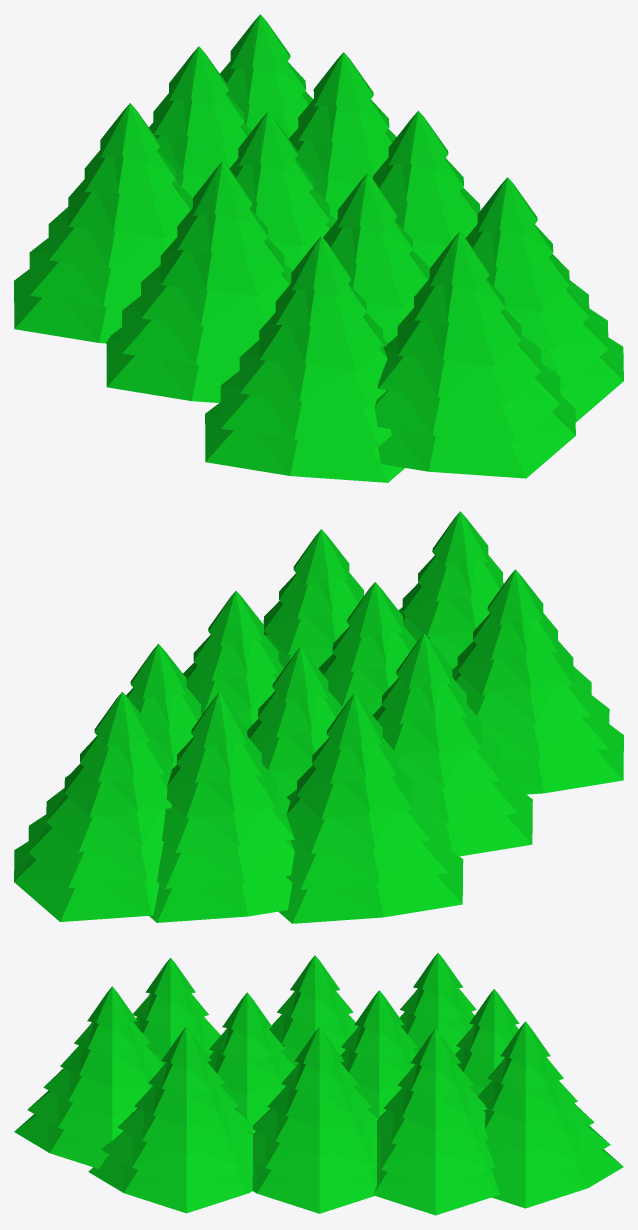
Rendered from wood.dae.
The picture shows the model from 3 angles, top to bottom: view 1: azimuth 30°, elevation 25°; view 2: azimuth 150°, elevation 25°; view 3: azimuth 270°, elevation 25°; orthographic projection. The views are drawn at different scales.
Parts seen in each view (by area): view 1: Tanne2_003, Tanne2_009, Tanne2_008, Tanne2_007, Tanne2_001, Tanne2_005, Tanne2, Tanne2_004, Tanne2_002, Tanne2_006, Tanne2_010; view 2: Tanne2_007, Tanne2_010, Tanne2_002, Tanne2_009, Tanne2_008, Tanne2_003, Tanne2_001, Tanne2_004, Tanne2_006, Tanne2, Tanne2_005; view 3: Tanne2_001, Tanne2_004, Tanne2_005, Tanne2_010, Tanne2_003, Tanne2, Tanne2_006, Tanne2_008, Tanne2_009, Tanne2_007, Tanne2_002.
Part boxes in pixels (x1,y1,x2,y2): Tanne2_003: (374, 231, 575, 478); Tanne2_009: (205, 236, 404, 482); Tanne2_008: (106, 161, 293, 402); Tanne2_007: (14, 103, 192, 343); Tanne2_001: (465, 177, 623, 422); Tanne2_005: (289, 52, 396, 219); Tanne2: (323, 173, 429, 342); Tanne2_004: (373, 110, 480, 275); Tanne2_002: (149, 46, 251, 205); Tanne2_006: (229, 112, 336, 270); Tanne2_010: (220, 14, 312, 138); Tanne2_007: (278, 693, 463, 923); Tanne2_010: (14, 692, 171, 921); Tanne2_002: (149, 692, 294, 922); Tanne2_009: (452, 569, 623, 794); Tanne2_008: (372, 633, 532, 856); Tanne2_003: (398, 511, 503, 668); Tanne2_001: (263, 529, 363, 668); Tanne2_004: (183, 590, 283, 729); Tanne2_006: (247, 647, 342, 797); Tanne2: (318, 582, 416, 714); Tanne2_005: (65, 643, 201, 778); Tanne2_001: (88, 1026, 253, 1213); Tanne2_004: (252, 1027, 378, 1213); Tanne2_005: (374, 1028, 499, 1215); Tanne2_010: (477, 1021, 623, 1208); Tanne2_003: (14, 986, 163, 1168); Tanne2: (207, 992, 294, 1133); Tanne2_006: (340, 990, 417, 1117); Tanne2_008: (269, 955, 358, 1067); Tanne2_009: (133, 957, 220, 1064); Tanne2_007: (399, 953, 476, 1053); Tanne2_002: (455, 989, 519, 1096).
Size of the model in its own units: 12.25 by 19.84 by 6.16.
